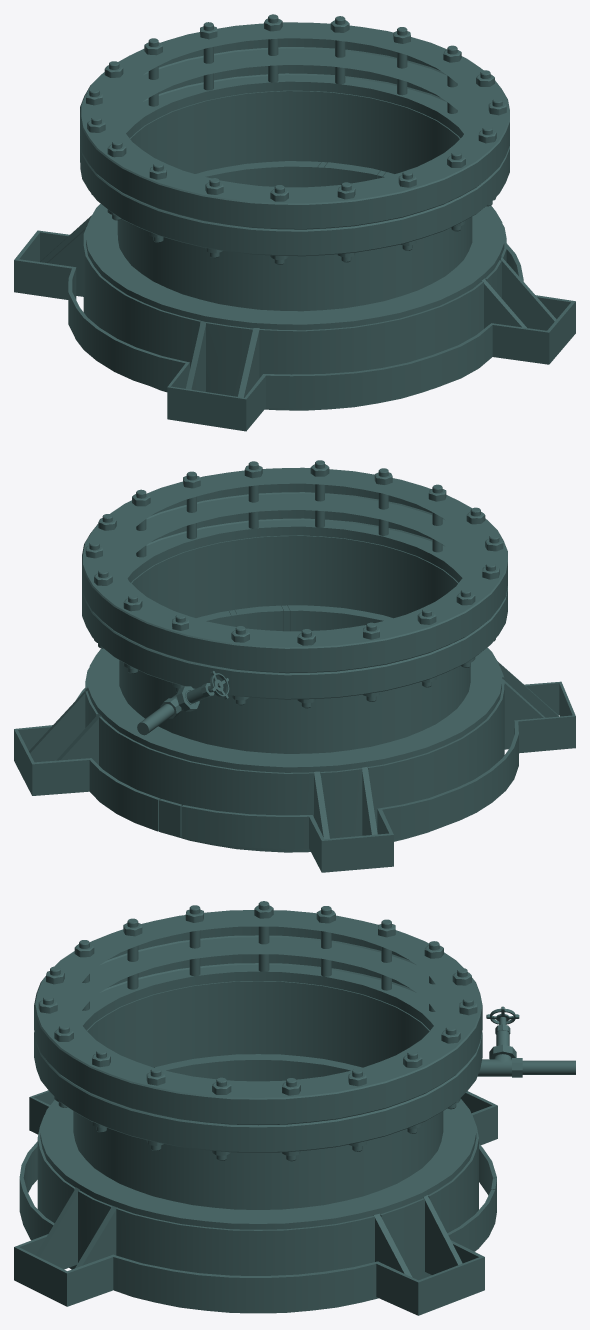
File: SM_ReboilerTop_01.FBX
3 renders of one model, top to bottom at view 1: azimuth 30°, elevation 25°; view 2: azimuth 150°, elevation 25°; view 3: azimuth 270°, elevation 25°, orthographic. The views are drawn at different scales.
Parts seen in each view (by area): view 1: ReboilerTop_01; view 2: ReboilerTop_01; view 3: ReboilerTop_01.
Boxes of the visible parts, bbox=[...] form: ReboilerTop_01: bbox=[14, 14, 575, 431]; ReboilerTop_01: bbox=[14, 460, 575, 872]; ReboilerTop_01: bbox=[14, 901, 575, 1315].
Size of the model in its own units: 112 by 127 by 56.88.
